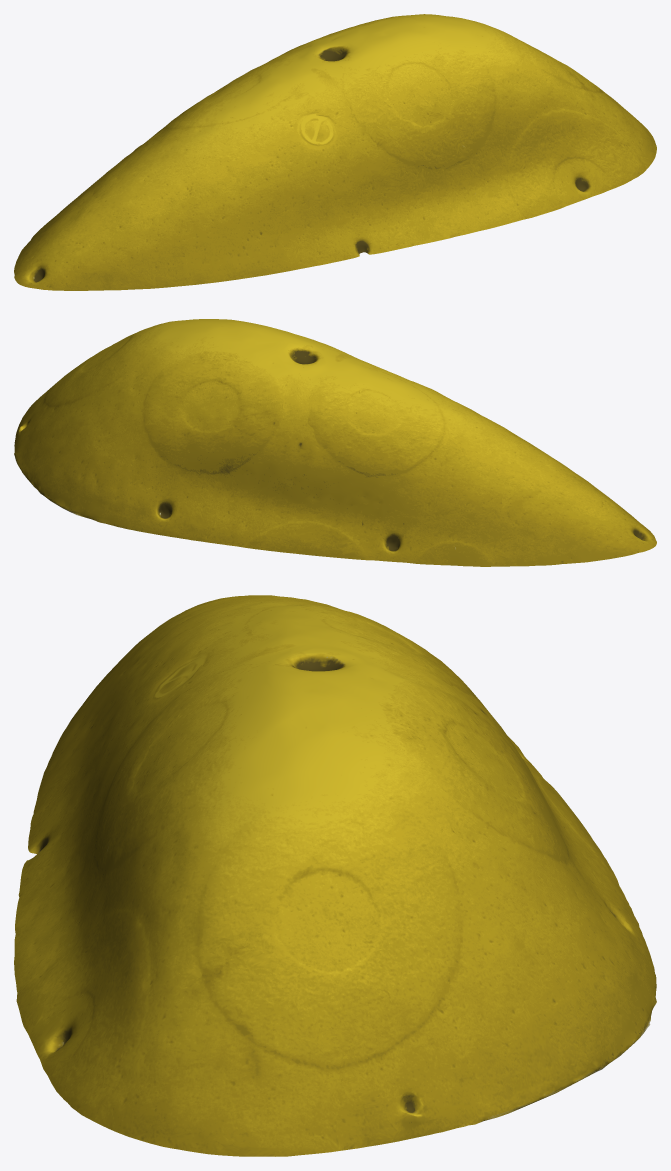
File: setrsoft-11-sloper.glb
The picture shows the model from 3 angles, top to bottom: view 1: azimuth 30°, elevation 25°; view 2: azimuth 150°, elevation 25°; view 3: azimuth 270°, elevation 25°; orthographic projection. The views are drawn at different scales.
Visible parts, largest first — view 1: 0000000044; view 2: 0000000044; view 3: 0000000044.
Part boxes in pixels (box(x1,y1,x2,y2)): 0000000044: box(14, 14, 656, 290); 0000000044: box(14, 319, 656, 566); 0000000044: box(14, 595, 656, 1156).
Size of the model in its own units: 0.7672 by 0.1631 by 0.376.
Materials: 1 (1 with a texture image).
